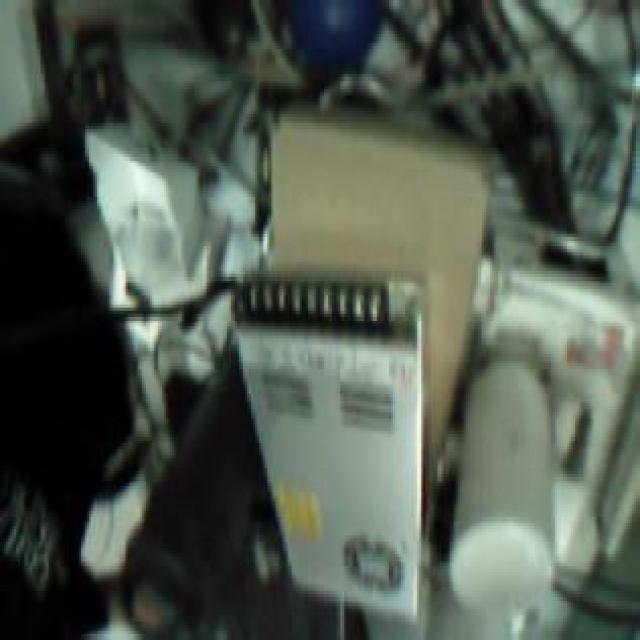BallPurple: (281, 0, 386, 73)
